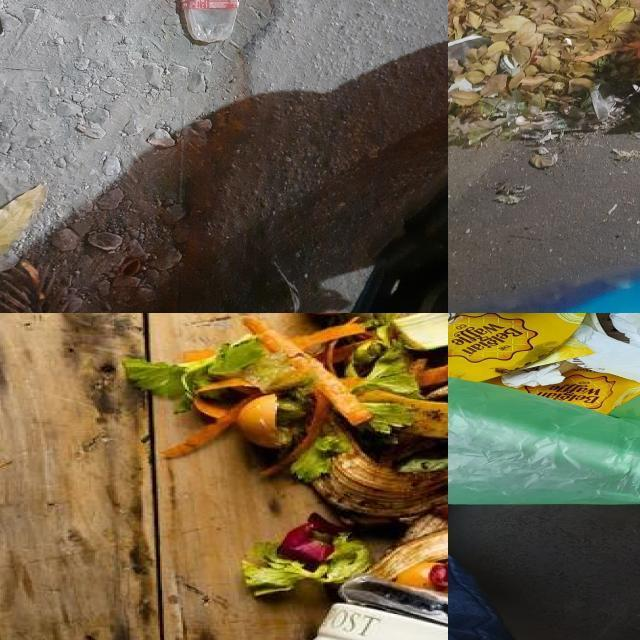Background: (110, 0, 282, 73), (209, 1, 215, 7)
Garbage: (122, 313, 448, 595), (448, 0, 640, 141), (448, 313, 640, 412)
Plastic_Bag: (591, 85, 615, 122)
Plastic_bottle: (181, 0, 239, 42)
